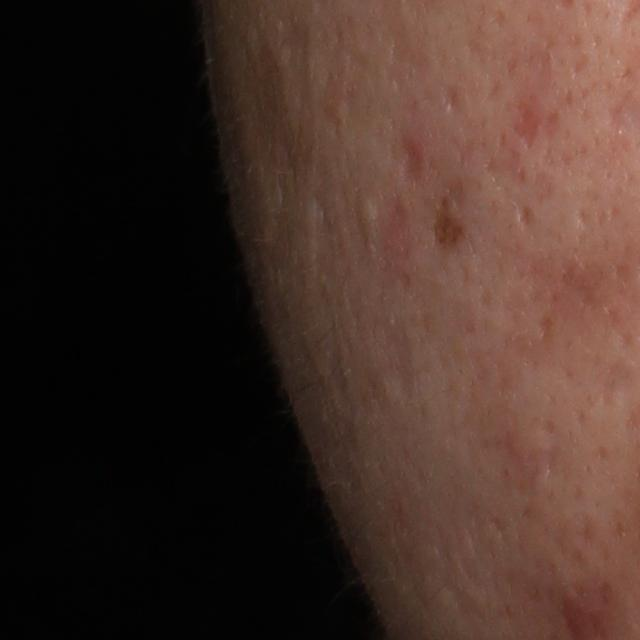atrophic_scar: (270, 18, 323, 120), (377, 325, 417, 402), (510, 97, 548, 154), (600, 355, 635, 405), (515, 199, 539, 233), (575, 196, 593, 235), (536, 311, 551, 345)
comedo: (353, 192, 376, 238)
melasma: (429, 195, 471, 254)
